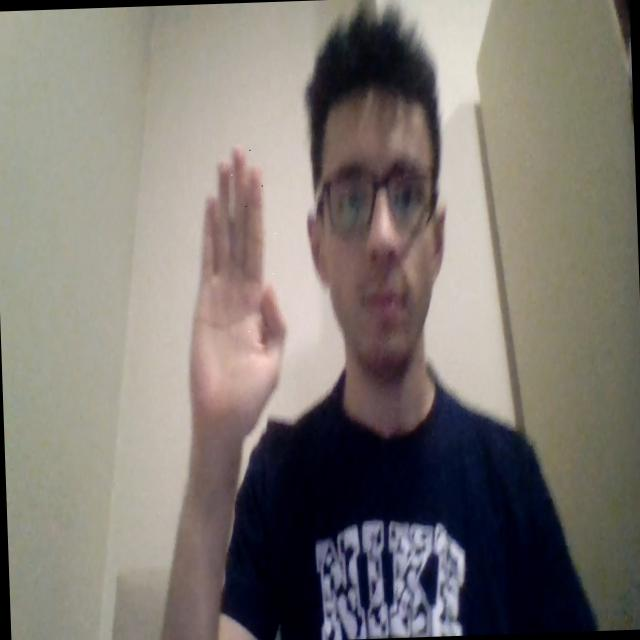hello: (179, 142, 290, 447)
